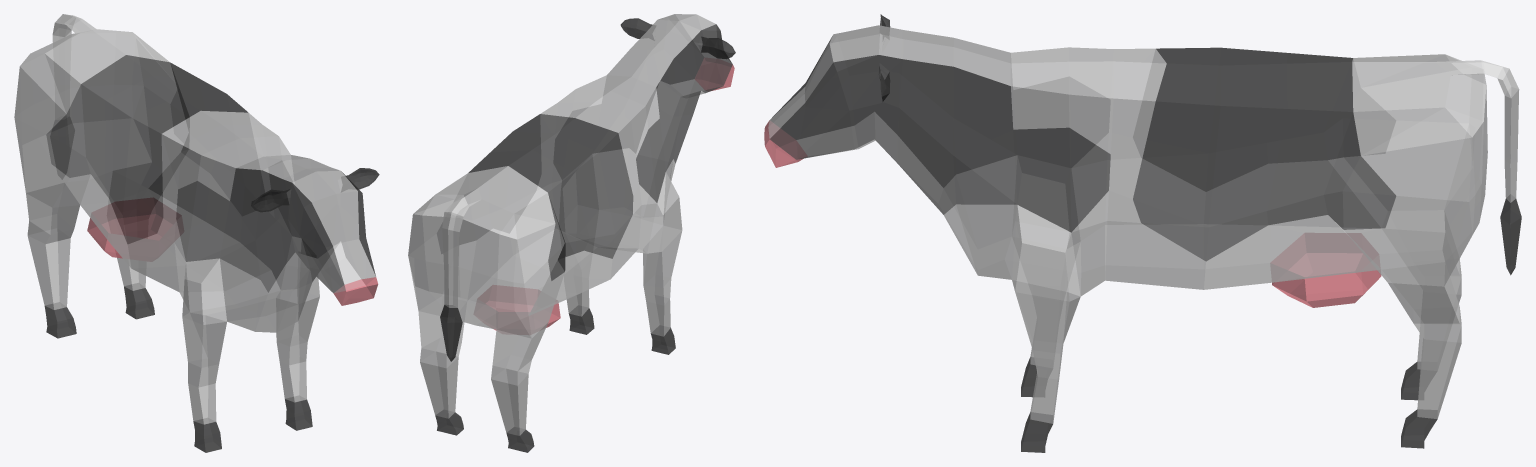
File: Cow.fbx
3 views of the same model, side by side, from view 1: azimuth 30°, elevation 25°; view 2: azimuth 150°, elevation 25°; view 3: azimuth 270°, elevation 25° (orthographic). The views are drawn at different scales.
Visible parts, largest first — view 1: Cow; view 2: Cow; view 3: Cow.
Boxes of the visible parts, <box> form: Cow: <box>14,14,379,452</box>; Cow: <box>408,14,735,452</box>; Cow: <box>764,14,1521,452</box>.
Bounding box in the file's own units: 225 × 515 × 917.
